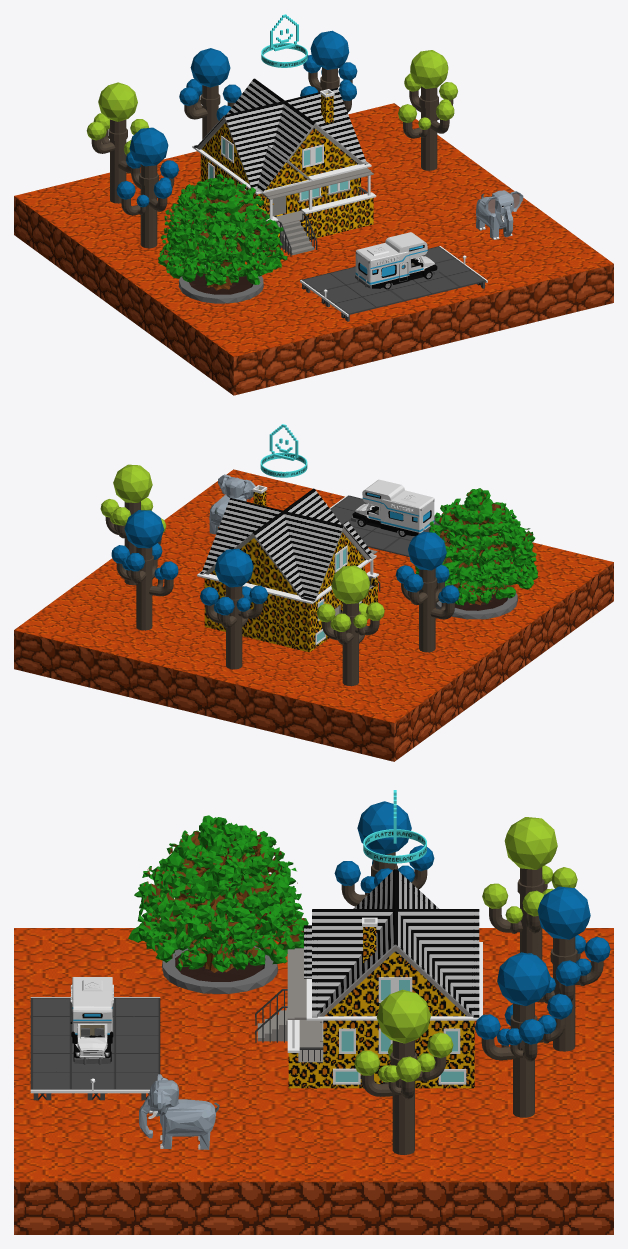
The picture shows the model from 3 angles, top to bottom: view 1: azimuth 30°, elevation 25°; view 2: azimuth 150°, elevation 25°; view 3: azimuth 270°, elevation 25°; orthographic projection. The views are drawn at different scales.
Parts seen in each view (by area): view 1: Cube.001, Cube.637, OBJRANDOM_CEIBA, VEHICLES_CAMPER, ANIMAL_ELEFANTE, TYPE_PREMIUM; view 2: Cube.001, Cube.637, OBJRANDOM_CEIBA, VEHICLES_CAMPER, ANIMAL_ELEFANTE, TYPE_PREMIUM; view 3: Cube.001, Cube.637, OBJRANDOM_CEIBA, VEHICLES_CAMPER, ANIMAL_ELEFANTE, TYPE_PREMIUM.
Part boxes in pixels (x1,y1,x2,y2): Cube.001: [14, 30, 613, 395]; Cube.637: [192, 78, 376, 256]; OBJRANDOM_CEIBA: [158, 173, 287, 303]; VEHICLES_CAMPER: [355, 232, 439, 289]; ANIMAL_ELEFANTE: [476, 190, 523, 239]; TYPE_PREMIUM: [261, 14, 307, 67]; Cube.001: [14, 464, 613, 761]; Cube.637: [197, 485, 380, 652]; OBJRANDOM_CEIBA: [415, 488, 537, 619]; VEHICLES_CAMPER: [351, 479, 435, 536]; ANIMAL_ELEFANTE: [209, 474, 255, 534]; TYPE_PREMIUM: [260, 424, 307, 477]; Cube.001: [14, 801, 613, 1234]; Cube.637: [255, 869, 482, 1088]; OBJRANDOM_CEIBA: [128, 815, 308, 993]; VEHICLES_CAMPER: [70, 977, 113, 1064]; ANIMAL_ELEFANTE: [139, 1074, 219, 1149]; TYPE_PREMIUM: [363, 790, 426, 863].
Bounding box in the file's own units: 4000 × 2433 × 4000.
37 materials, 7 textured.
